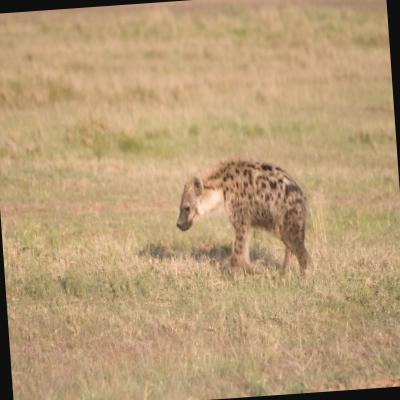hyenas: (160, 114, 335, 296)
